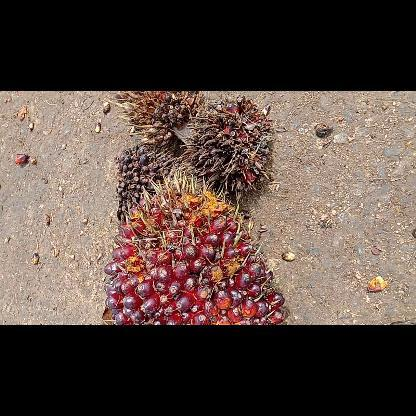TBS abnormal: (183, 96, 277, 202), (113, 138, 178, 224), (109, 91, 205, 143)
TBS masak: (99, 170, 290, 324)
